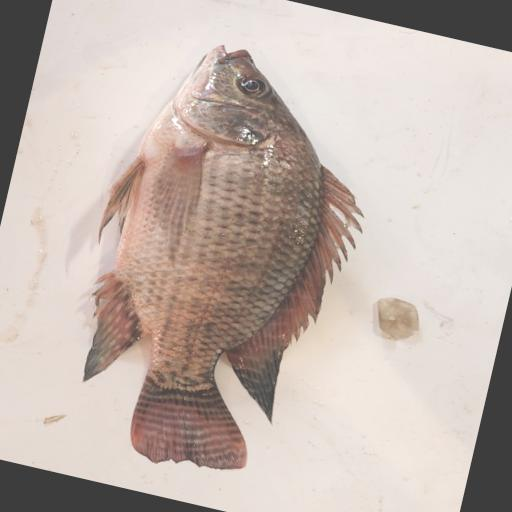Tilapia: (50, 27, 397, 498)
